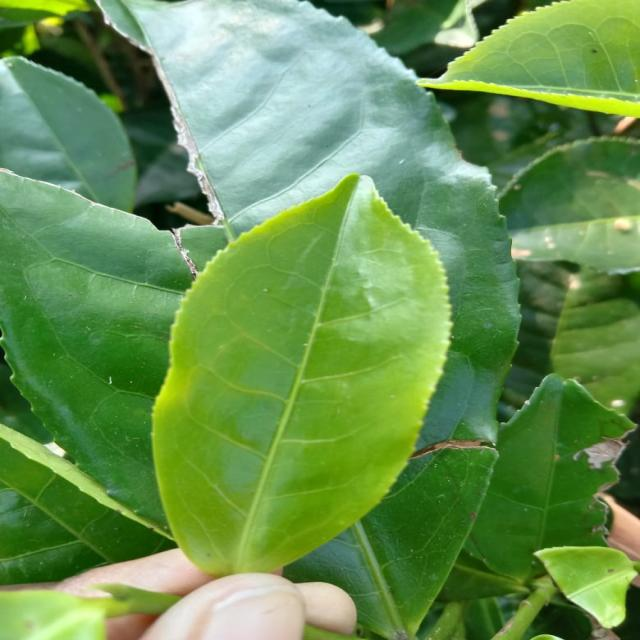Category B 2-4 days: (138, 165, 461, 594)
